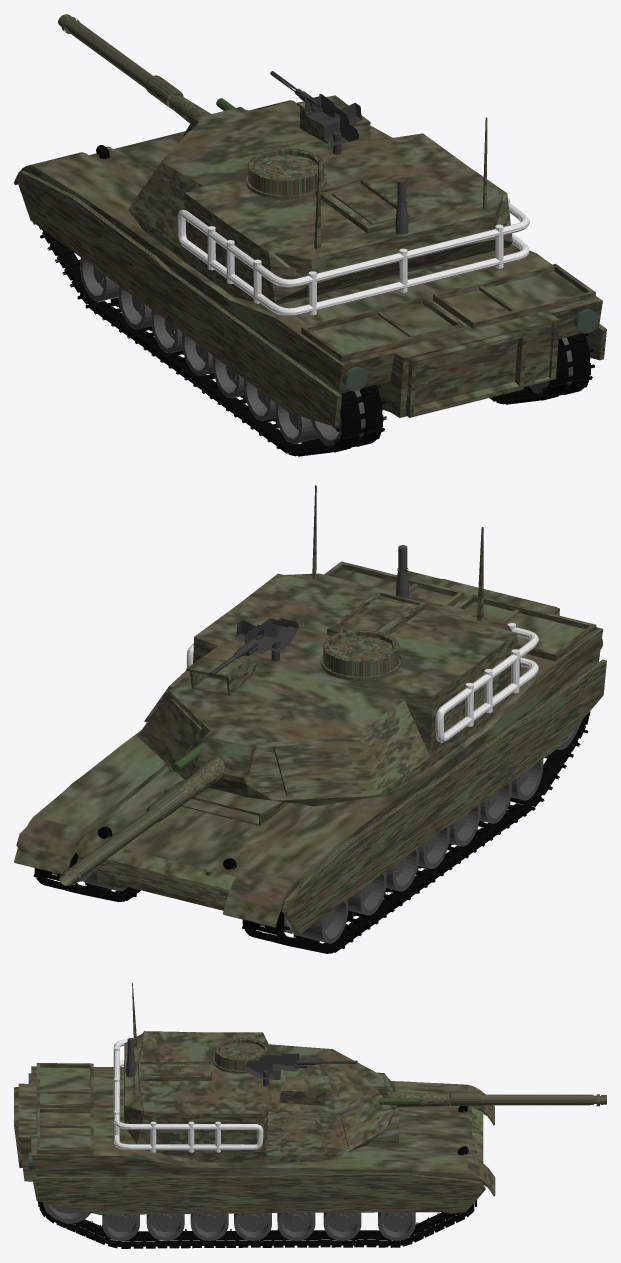
The model's file is type_m1a2.glb.
The picture shows the model from 3 angles, top to bottom: view 1: azimuth 30°, elevation 25°; view 2: azimuth 150°, elevation 25°; view 3: azimuth 270°, elevation 25°; orthographic projection. The views are drawn at different scales.
Parts seen in each view (by area): view 1: Object_6, Object_8, Object_3, Object_15, Object_11, Object_12, Object_7, Object_2, Object_14, Object_13, Object_16, Object_5; view 2: Object_6, Object_8, Object_15, Object_7, Object_3, Object_12, Object_11, Object_2, Object_14, Object_10; view 3: Object_6, Object_8, Object_14, Object_10, Object_3, Object_7, Object_9, Object_2.
Part boxes in pixels (box(x1,y1,x2,y2)): Object_6: box(14, 95, 602, 417); Object_8: box(16, 148, 606, 426); Object_3: box(177, 198, 529, 316); Object_15: box(80, 257, 318, 444); Object_11: box(160, 333, 594, 456); Object_12: box(33, 222, 384, 453); Object_7: box(58, 14, 210, 123); Object_2: box(270, 71, 362, 154); Object_14: box(151, 310, 573, 446); Object_13: box(336, 384, 386, 438); Object_16: box(342, 309, 598, 391); Object_5: box(395, 179, 408, 234); Object_6: box(14, 485, 603, 927); Object_8: box(16, 630, 606, 933); Object_15: box(293, 759, 543, 943); Object_7: box(59, 757, 224, 885); Object_3: box(186, 623, 539, 742); Object_12: box(242, 711, 590, 953); Object_11: box(70, 756, 566, 896); Object_2: box(209, 618, 298, 676); Object_14: box(52, 721, 581, 933); Object_10: box(33, 866, 140, 902); Object_6: box(14, 982, 495, 1196); Object_8: box(32, 1038, 485, 1214); Object_14: box(43, 1202, 458, 1240); Object_10: box(84, 1200, 476, 1248); Object_3: box(113, 1039, 263, 1152); Object_7: box(391, 1091, 606, 1107); Object_9: box(75, 1106, 468, 1248); Object_2: box(245, 1053, 357, 1086).
Bounding box in the file's own units: 3.64 × 3.6 × 9.8.
Materials: 8 (1 with a texture image).
